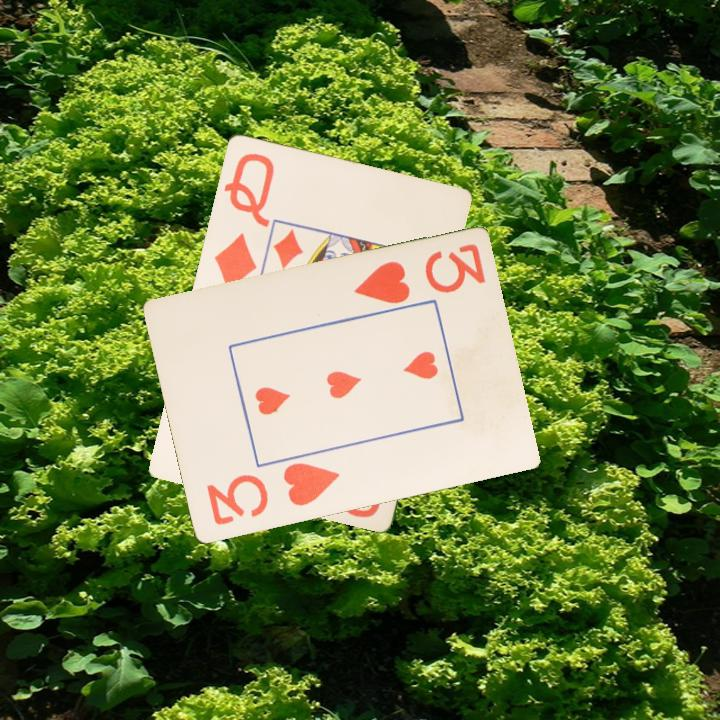3h: (203, 459, 342, 529), (350, 240, 488, 308)
Qd: (210, 148, 277, 295)
